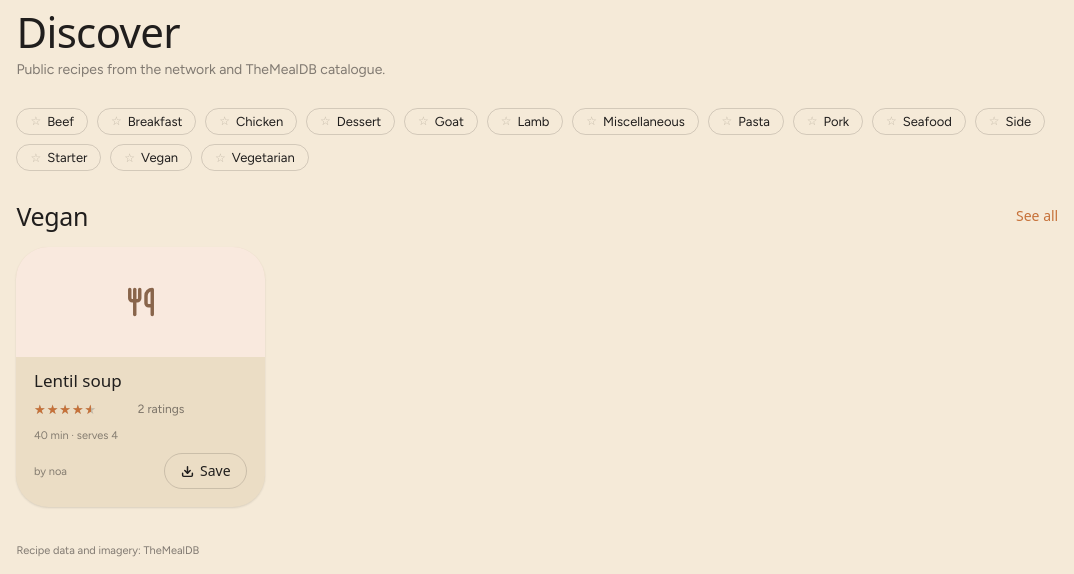
Test case: DiscoverScreen › DISC-9 asks the API for the chosen category when a chip is selected
Click the button "Pasta": click(754, 121) [738,114,770,129]
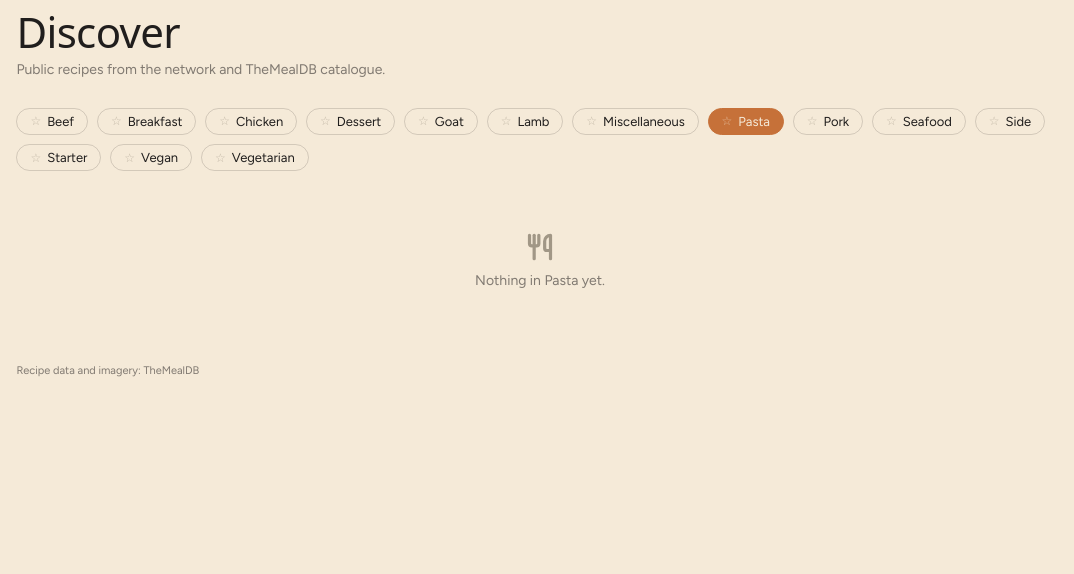
Check: the text "Nothing in Pasta yet." is shown, box [475,270,605,292]
